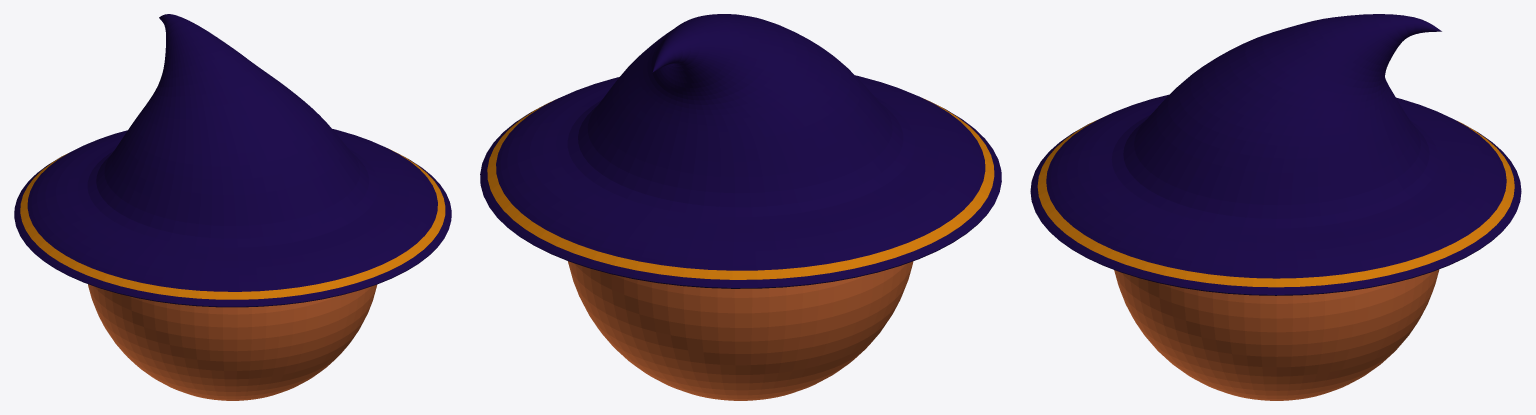
Rendered from Player with hat.obj.
3 renders of one model, left to right at view 1: azimuth 30°, elevation 25°; view 2: azimuth 150°, elevation 25°; view 3: azimuth 270°, elevation 25°, orthographic. The views are drawn at different scales.
Parts seen in each view (by area): view 1: Cube; view 2: Cube; view 3: Cube.
Boxes of the visible parts, bbox=[...] form: Cube: bbox=[14, 14, 451, 400]; Cube: bbox=[480, 14, 1001, 400]; Cube: bbox=[1030, 14, 1521, 400].
Bounding box in the file's own units: 2.18 × 1.81 × 2.18.
